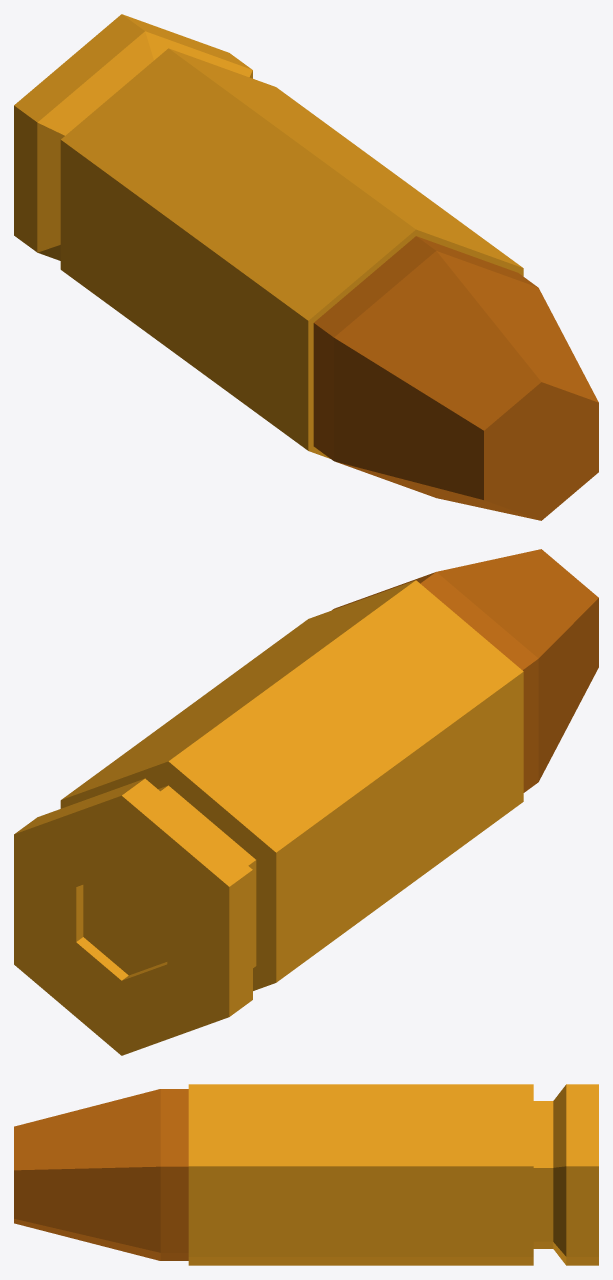
Rendered from Bullet_SMG_A.fbx.
The picture shows the model from 3 angles, top to bottom: view 1: azimuth 30°, elevation 25°; view 2: azimuth 150°, elevation 25°; view 3: azimuth 270°, elevation 25°; orthographic projection. The views are drawn at different scales.
Visible parts, largest first — view 1: Bullet_SMG_A, Bullet_SMG_A_Part; view 2: Bullet_SMG_A, Bullet_SMG_A_Part; view 3: Bullet_SMG_A, Bullet_SMG_A_Part.
Part boxes in pixels (x1,y1,x2,y2): Bullet_SMG_A: (14,14,523,458); Bullet_SMG_A_Part: (313,236,598,520); Bullet_SMG_A: (14,580,523,1055); Bullet_SMG_A_Part: (332,549,598,792); Bullet_SMG_A: (188,1084,598,1265); Bullet_SMG_A_Part: (14,1089,188,1260).
Bounding box in the file's own units: 0.0133 × 0.0154 × 0.045.
